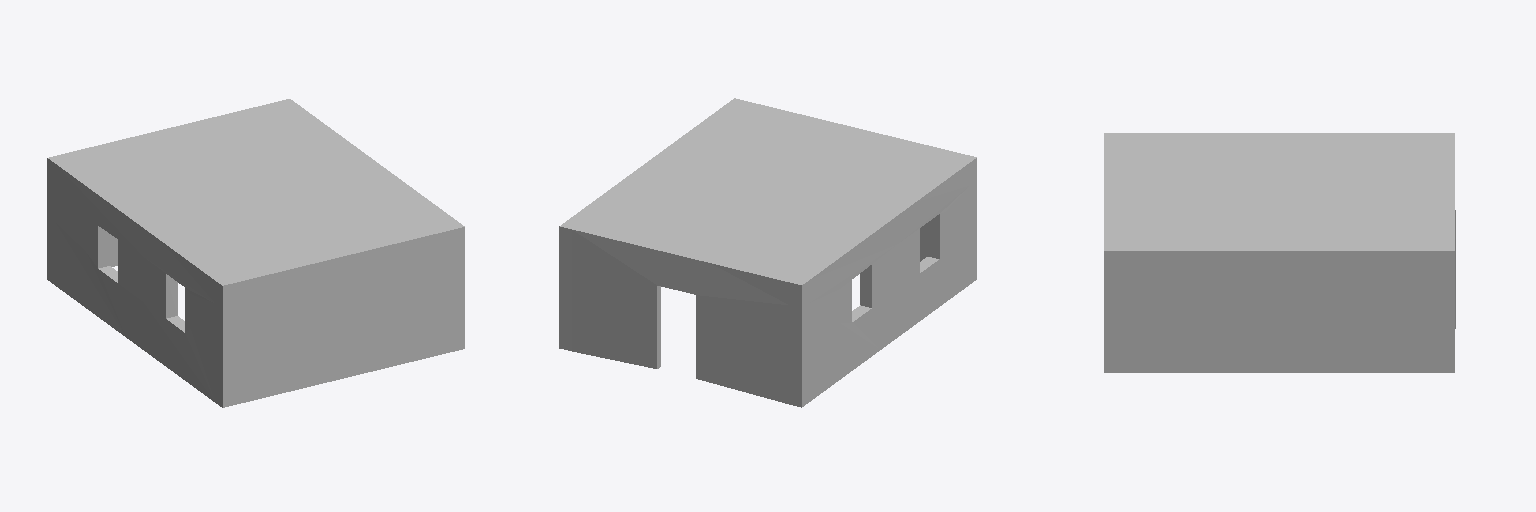
File: room.obj
The picture shows the model from 3 angles: view 1: azimuth 30°, elevation 25°; view 2: azimuth 150°, elevation 25°; view 3: azimuth 270°, elevation 25°; orthographic projection.
Visible parts, largest first — view 1: room_Cube.001; view 2: room_Cube.001; view 3: room_Cube.001.
Boxes of the visible parts, box(x1,y1,x2,y2) form: room_Cube.001: box(47, 99, 464, 407); room_Cube.001: box(559, 98, 976, 407); room_Cube.001: box(1104, 133, 1455, 372).
Bounding box in the file's own units: 7.08 × 3.56 × 8.88.